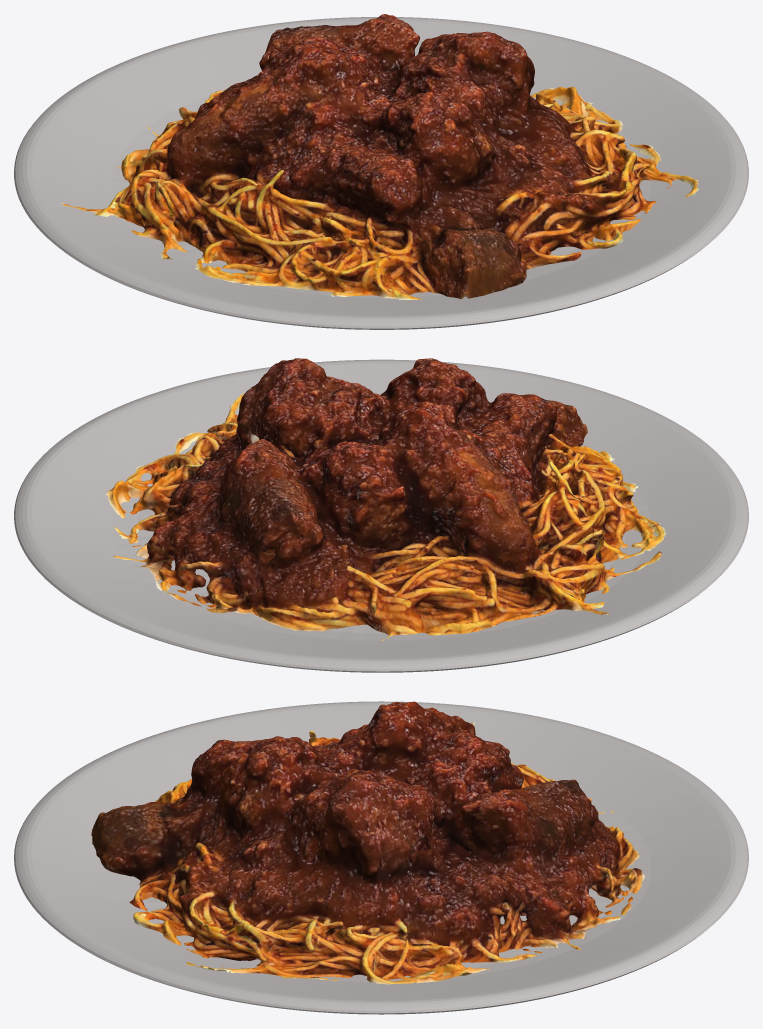
File: pastameatballsample.glb
3 views of the same model, one above another, from view 1: azimuth 30°, elevation 25°; view 2: azimuth 150°, elevation 25°; view 3: azimuth 270°, elevation 25° (orthographic).
Parts seen in each view (by area): view 1: 3DModel_2, Circle_3; view 2: 3DModel_2, Circle_3; view 3: 3DModel_2, Circle_3.
Boxes of the visible parts, box(x1,y1,x2,y2) form: 3DModel_2: box(61, 14, 699, 299); Circle_3: box(14, 17, 748, 329); 3DModel_2: box(106, 358, 665, 640); Circle_3: box(14, 359, 748, 672); 3DModel_2: box(91, 701, 644, 984); Circle_3: box(14, 701, 748, 1014).
Size of the model in its own units: 9.75 by 2.4 by 9.75.
Materials: 2 (1 with a texture image).
